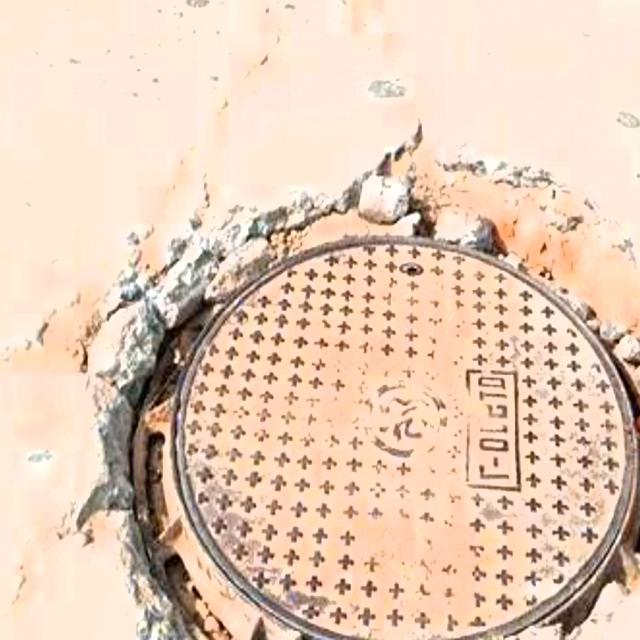circle: (40, 130, 640, 640)
